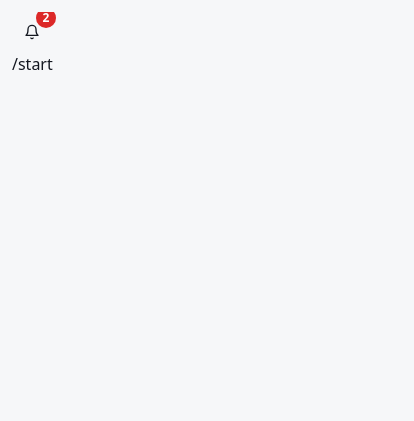
Test case: NotificationBell interactions › clicking navigates to the resolved destination and then marks read
This screenshot has width=414, height=421.
Click the button named "notifications".
click(32, 32)  # box [12,12,52,52]
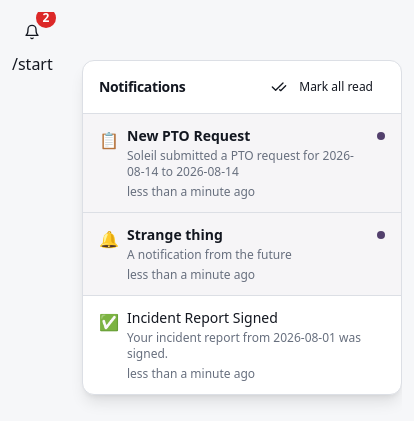
Click the text "New PTO Request".
click(189, 136)  # box [127,126,250,145]
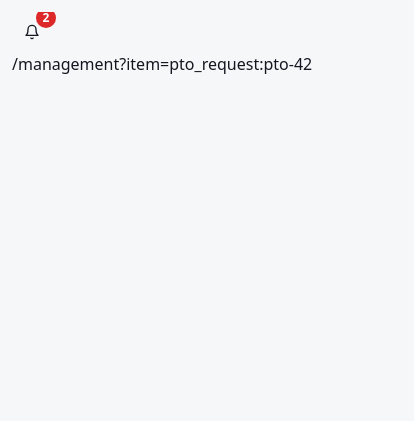
Check: the text with test id "location" reads "/management?item=pto_request:pto-42", box [12,53,312,75]
